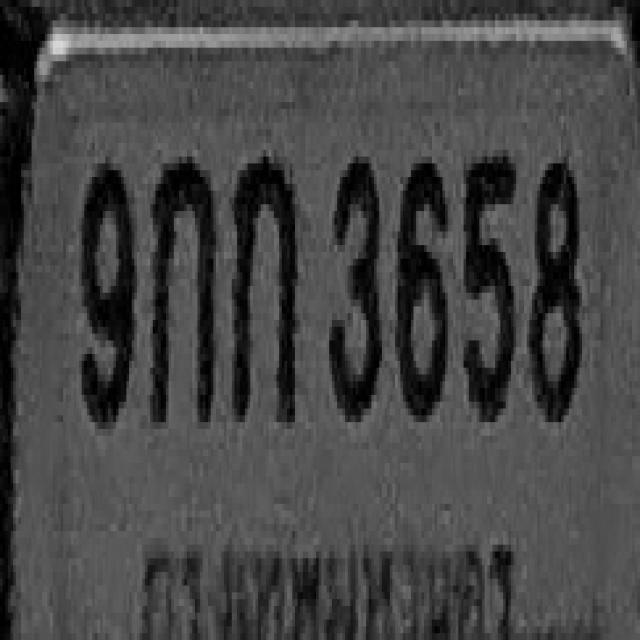10GorGai: (148, 153, 214, 426), (230, 150, 296, 422)
3: (328, 153, 380, 419)
5: (462, 150, 515, 422)
6: (395, 157, 448, 415)
8: (528, 153, 581, 419)
9: (80, 157, 133, 422)
Bangkok: (134, 497, 522, 640)
